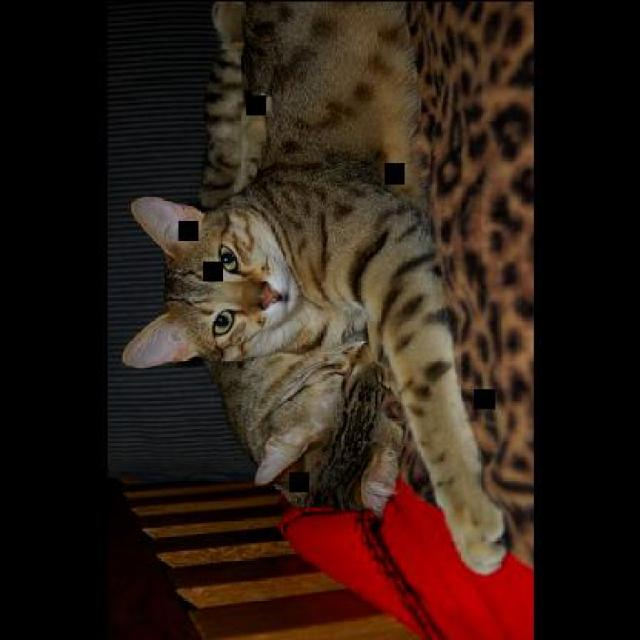unauthorized: (120, 0, 514, 575)
